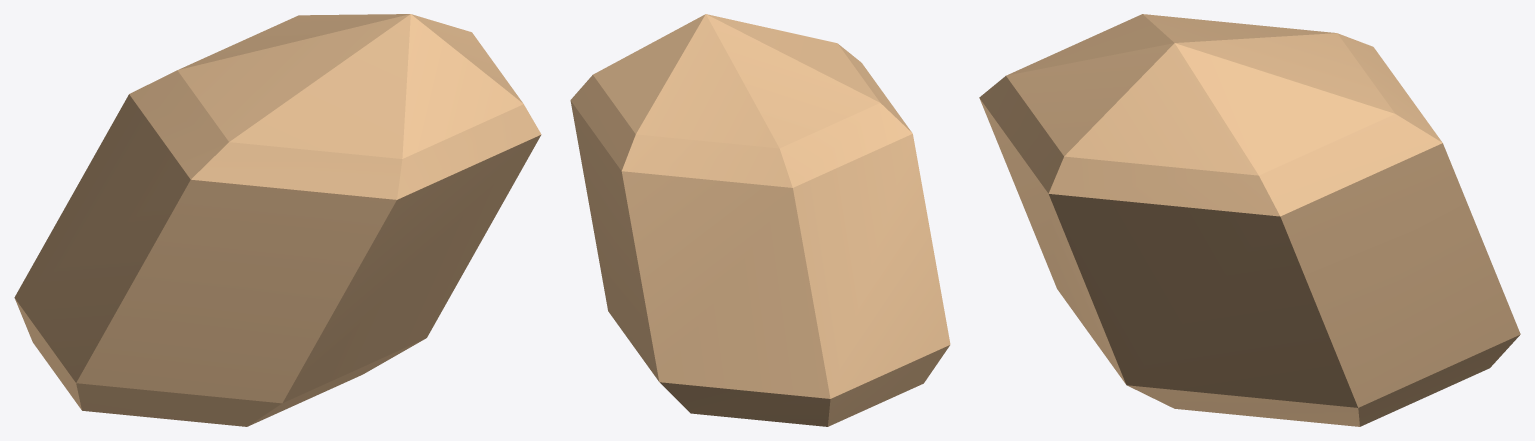
The model's file is candy-crumb.glb.
3 views of the same model, side by side, from view 1: azimuth 30°, elevation 25°; view 2: azimuth 150°, elevation 25°; view 3: azimuth 270°, elevation 25° (orthographic). The views are drawn at different scales.
Visible parts, largest first — view 1: Crumb prism; view 2: Crumb prism; view 3: Crumb prism.
Part boxes in pixels (box(x1,y1,x2,y2)): Crumb prism: box(14, 14, 541, 426); Crumb prism: box(570, 14, 950, 426); Crumb prism: box(979, 14, 1520, 426).
Size of the model in its own units: 0.2585 by 0.2 by 0.2503.
